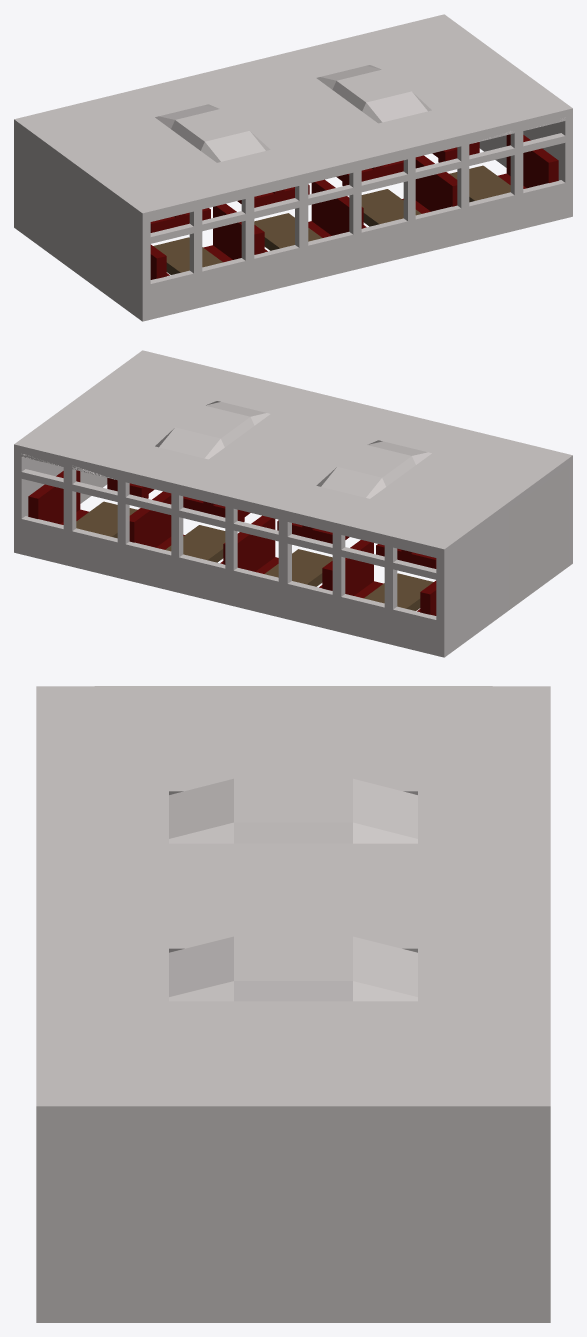
The model's file is Bus_Area_Less_Poly.fbx.
3 views of the same model, one above another, from view 1: azimuth 30°, elevation 25°; view 2: azimuth 150°, elevation 25°; view 3: azimuth 270°, elevation 25° (orthographic). The views are drawn at different scales.
Parts seen in each view (by area): view 1: Cube.003; view 2: Cube.003; view 3: Cube.003.
Boxes of the visible parts, x1=… form: Cube.003: x1=14, y1=14, x2=572, y2=321; Cube.003: x1=14, y1=350, x2=572, y2=657; Cube.003: x1=36, y1=686, x2=550, y2=1322.
Bounding box in the file's own units: 992 × 257 × 513.
1 material, 1 textured.
